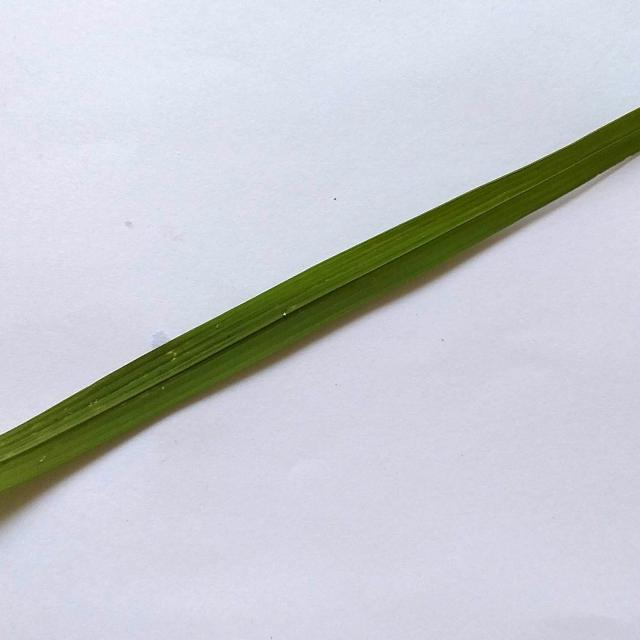Rice_Healthy: (0, 108, 640, 490)
